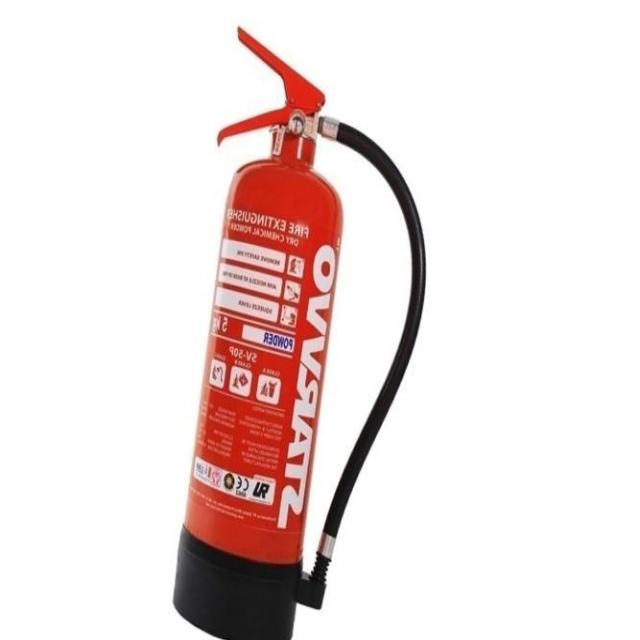fire_extinguisher: (165, 17, 431, 639)
